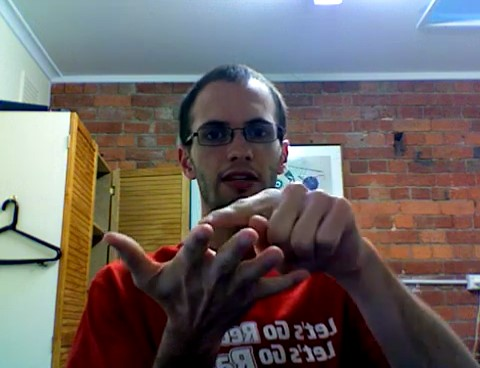E: (88, 182, 352, 324)
